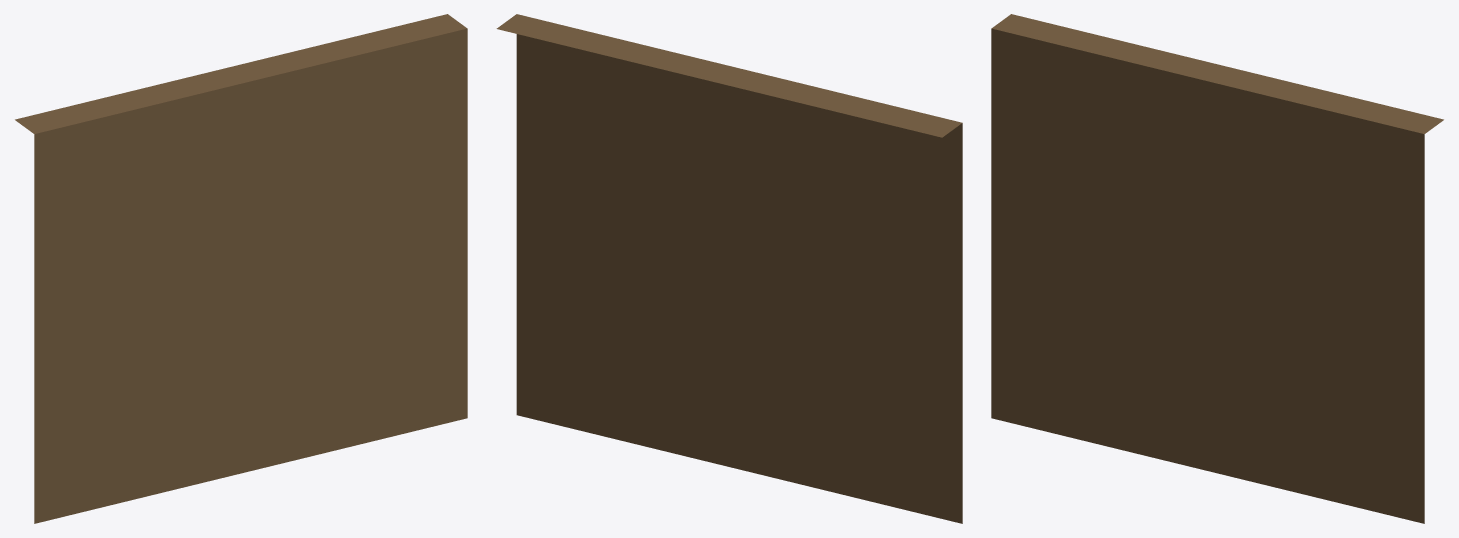
Rendered from Not_crossable_stripe.fbx.
3 views of the same model, side by side, from view 1: azimuth 30°, elevation 25°; view 2: azimuth 150°, elevation 25°; view 3: azimuth 330°, elevation 25° (orthographic). The views are drawn at different scales.
Visible parts, largest first — view 1: Plane.001; view 2: Plane.001; view 3: Plane.001.
Boxes of the visible parts, x1=… form: Plane.001: x1=15, y1=14, x2=467, y2=523; Plane.001: x1=496, y1=14, x2=962, y2=523; Plane.001: x1=991, y1=14, x2=1443, y2=523.
Size of the model in its own units: 995 by 855 by 78.9.
